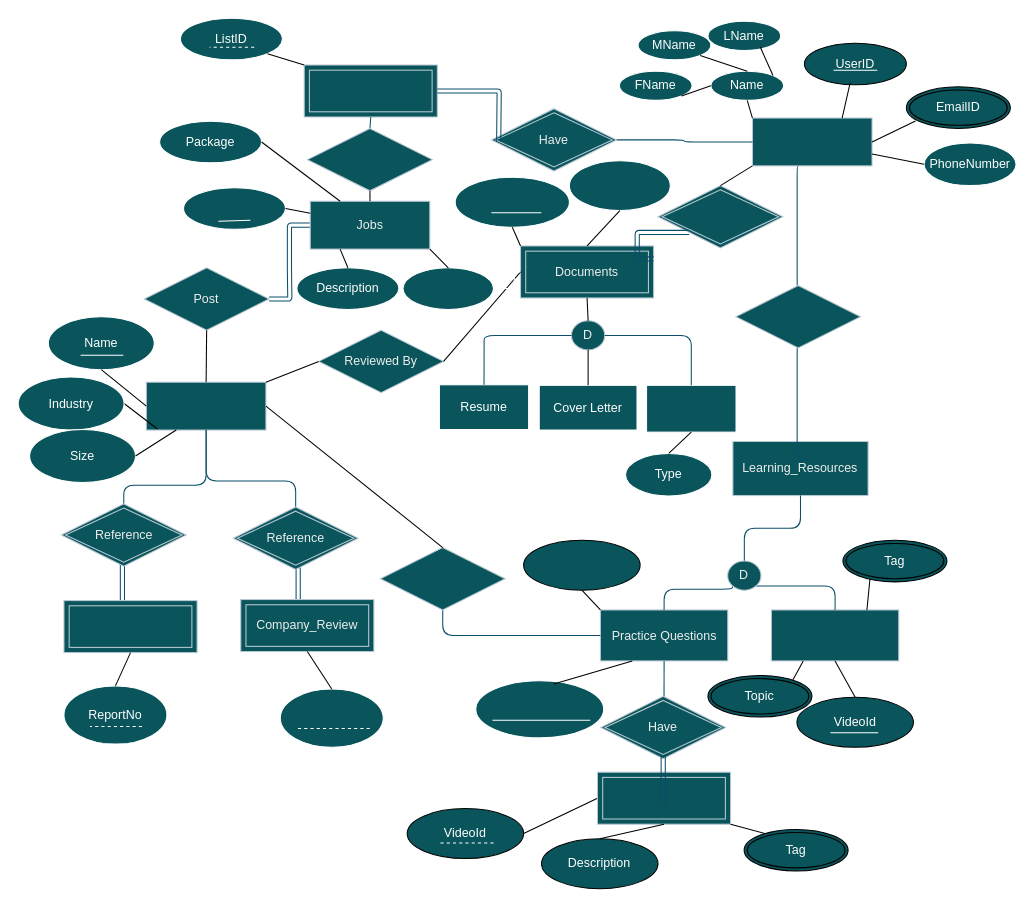
This 1035x907 diagram has some shape labels left out. The box of each missing label's shape, as (x1, y1, x2, y2) in pixels:
Application_List: (303, 64, 437, 117)
Asked By: (379, 547, 505, 610)
Company: (145, 381, 266, 430)
Contain: (306, 127, 432, 191)
DateUploaded: (568, 160, 670, 211)
Dno: (454, 176, 569, 227)
JobID: (183, 187, 285, 229)
JobURL: (402, 267, 493, 309)
Other: (646, 384, 736, 432)
Prompt: (523, 539, 640, 590)
Question Number: (475, 680, 604, 738)
ReviewNo: (279, 688, 383, 747)
Salary_Report: (63, 600, 197, 653)
Save: (735, 284, 861, 348)
Solution Video: (596, 771, 731, 824)
Submits: (657, 185, 783, 248)
Tutorial_Videos: (770, 609, 899, 661)
User: (751, 117, 872, 166)
